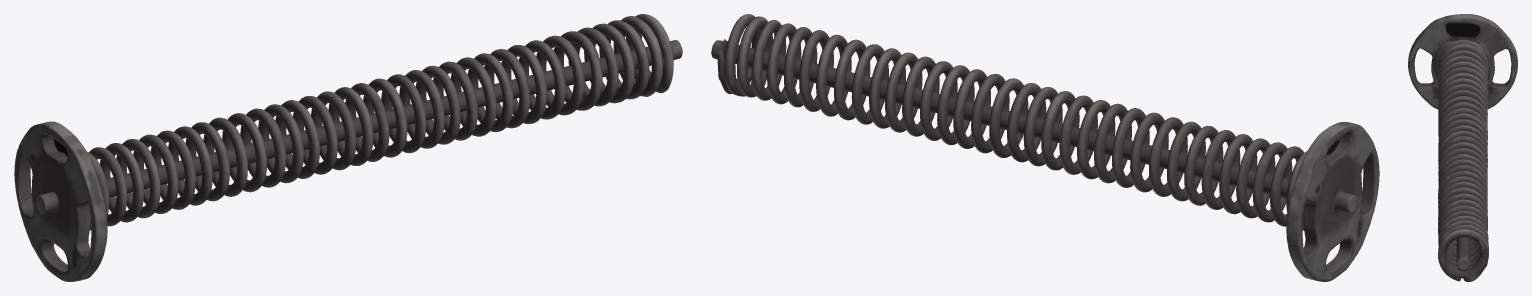
Rendered from spring.glb.
3 renders of one model, left to right at view 1: azimuth 30°, elevation 25°; view 2: azimuth 150°, elevation 25°; view 3: azimuth 270°, elevation 25°, orthographic. The views are drawn at different scales.
Parts seen in each view (by area): view 1: geometry_0; view 2: geometry_0; view 3: geometry_0.
Boxes of the visible parts, box(x1,y1,x2,y2) form: geometry_0: box(14, 14, 682, 281); geometry_0: box(711, 14, 1379, 281); geometry_0: box(1408, 14, 1517, 281).
Size of the model in its own units: 1 by 0.2185 by 0.223.
1 material, 1 textured.
